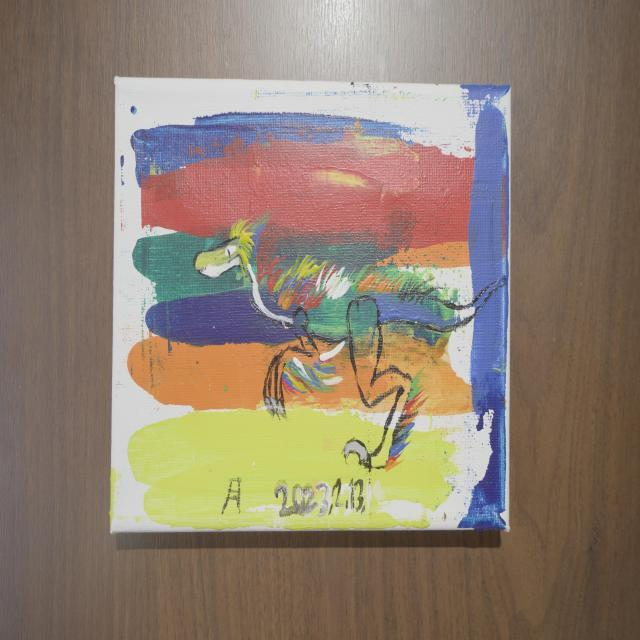painting: (110, 78, 510, 532)
